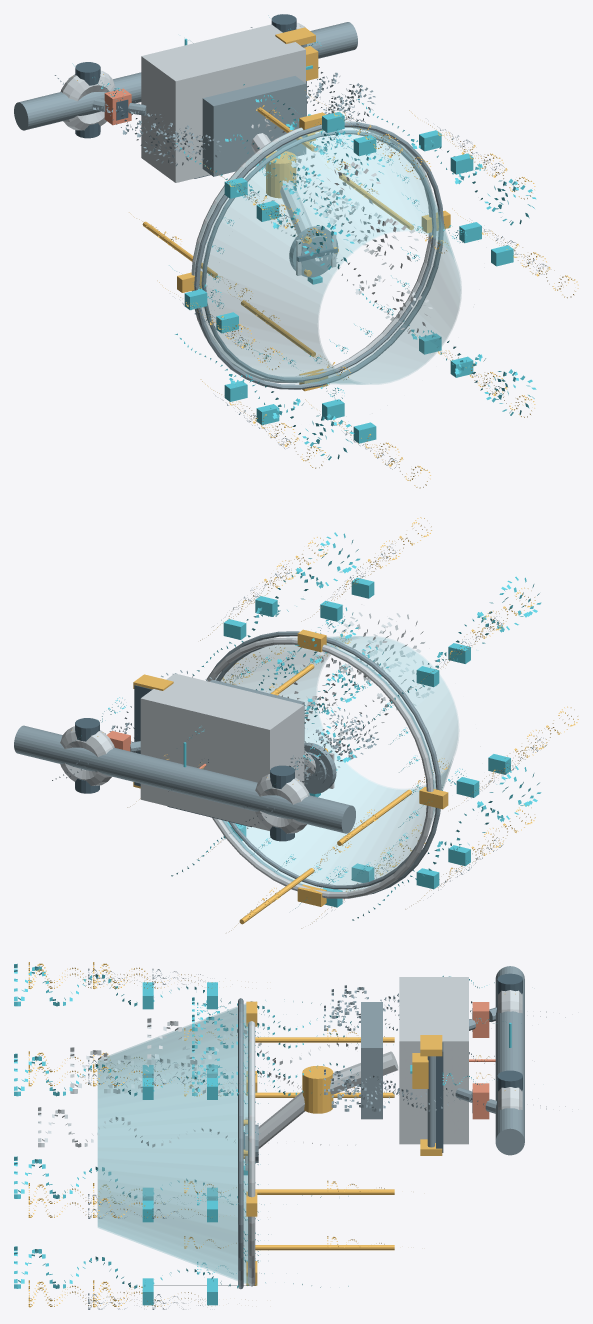
Rendered from HARBOR-PERIMETER-SCAN-assembly.glb.
3 renders of one model, top to bottom at view 1: azimuth 30°, elevation 25°; view 2: azimuth 150°, elevation 25°; view 3: azimuth 270°, elevation 25°, orthographic.
Visible parts, largest first — view 1: hood, steel, metal, cyan.001, amber, cyan, amber.001, dark, cell; view 2: metal, hood, steel, cyan.001, cyan, amber, dark, amber.001; view 3: hood, metal, steel, amber, cyan, cyan.001, amber.001, dark, cell, dark.001.
Boxes of the visible parts, x1,y1,x2,y2 form: hood: (192,121,461,384); steel: (14,22,444,389); metal: (60,22,435,382); cyan.001: (184,112,513,443); amber: (72,26,450,391); cyan: (72,15,536,460); amber.001: (157,90,578,488); dark: (75,14,337,261); cell: (104,88,131,125); metal: (60,612,437,898); hood: (216,636,458,891); steel: (14,631,441,894); cyan.001: (223,577,510,907); cyan: (72,532,541,920); amber: (71,629,448,931); dark: (75,685,294,841); amber.001: (198,517,578,928); hood: (97,1003,250,1285); metal: (38,977,522,1286); steel: (238,966,565,1289); amber: (184,993,515,1285); cyan: (14,963,511,1288); cyan.001: (142,982,217,1305); amber.001: (28,962,245,1307); dark: (243,973,522,1152); cell: (469,1002,495,1119); dark.001: (88,968,200,1309).
Bounding box in the file's own units: 0.42 × 0.4024 × 0.6165.
